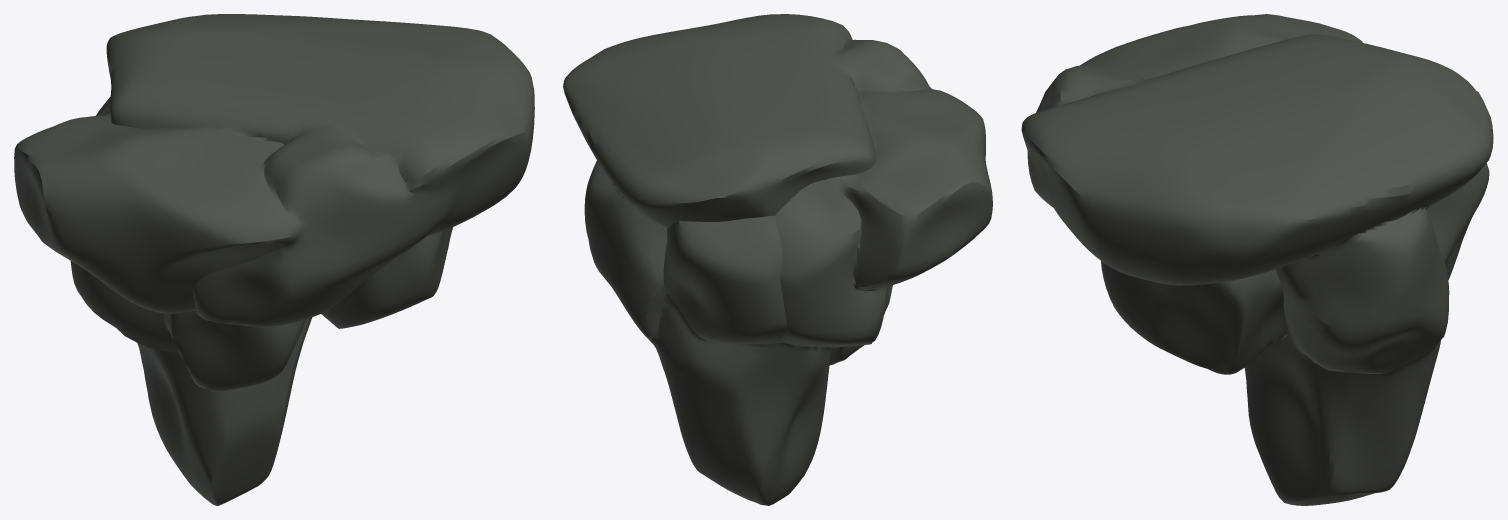
File: cliff2.obj
The picture shows the model from 3 angles, left to right: view 1: azimuth 30°, elevation 25°; view 2: azimuth 150°, elevation 25°; view 3: azimuth 270°, elevation 25°; orthographic projection. The views are drawn at different scales.
Visible parts, largest first — view 1: Environment_Cliff3_mesh.001; view 2: Environment_Cliff3_mesh.001; view 3: Environment_Cliff3_mesh.001.
Boxes of the visible parts, x1,y1,x2,y2 form: Environment_Cliff3_mesh.001: (14,14,534,505); Environment_Cliff3_mesh.001: (563,14,992,505); Environment_Cliff3_mesh.001: (1021,14,1493,505).
Size of the model in its own units: 6.86 by 6.17 by 5.95.
1 material, 1 textured.
